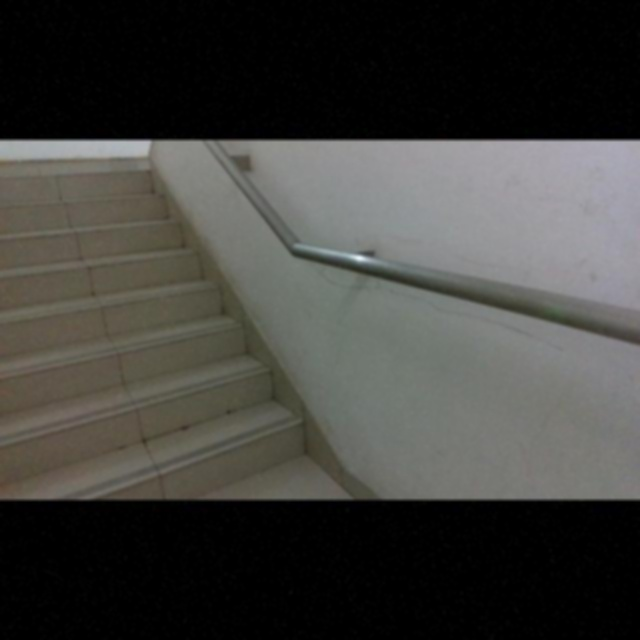stair: (0, 162, 289, 486)
